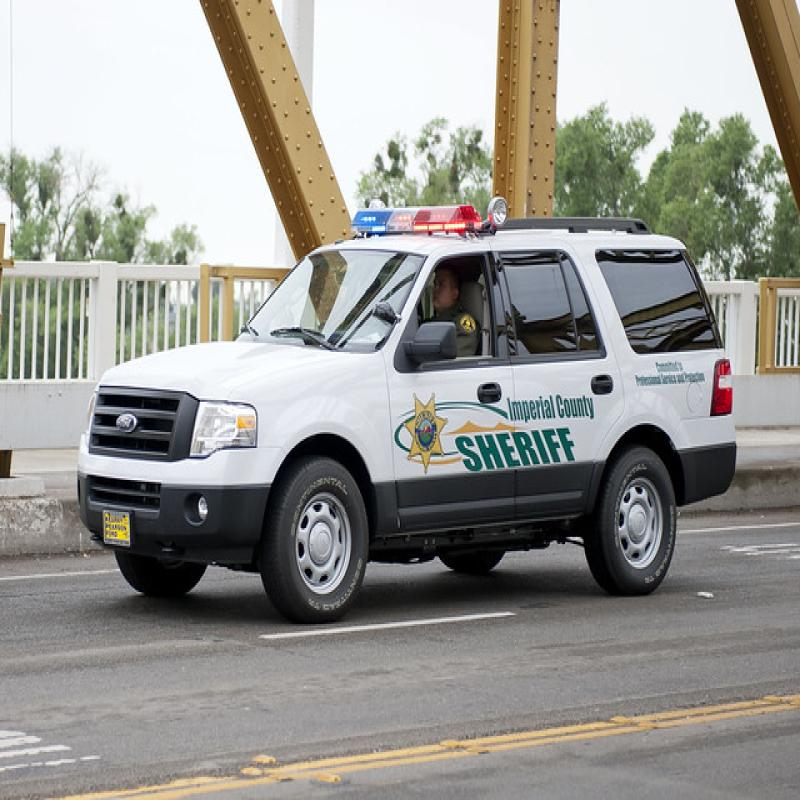AmbulanceSiren: (352, 183, 484, 241)
